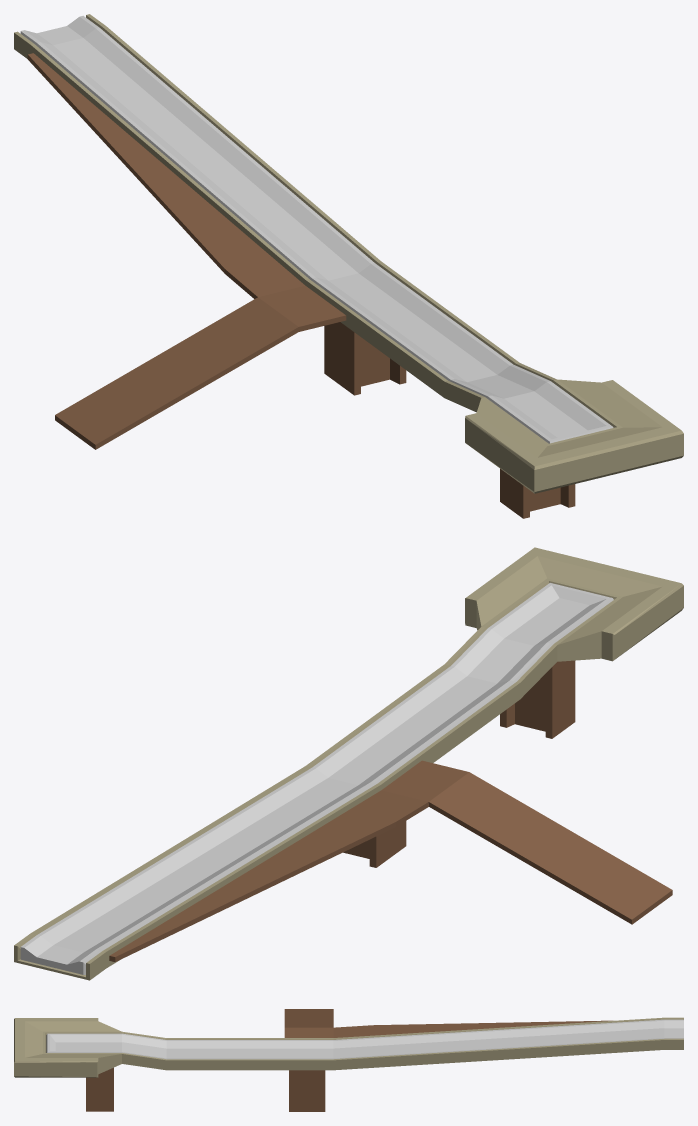
Rendered from GliderPlatform.dae.
The picture shows the model from 3 angles, top to bottom: view 1: azimuth 30°, elevation 25°; view 2: azimuth 150°, elevation 25°; view 3: azimuth 270°, elevation 25°; orthographic projection. The views are drawn at different scales.
Parts seen in each view (by area): view 1: GlidePlatformPart1, GlidePlatformPart2; view 2: GlidePlatformPart1, GlidePlatformPart2; view 3: GlidePlatformPart1, GlidePlatformPart2.
Part boxes in pixels (box(x1,y1,x2,y2)): GlidePlatformPart1: box(14, 14, 683, 518); GlidePlatformPart2: box(20, 15, 613, 443); GlidePlatformPart1: box(14, 547, 683, 980); GlidePlatformPart2: box(20, 583, 613, 974); GlidePlatformPart1: box(14, 1009, 683, 1111); GlidePlatformPart2: box(46, 1019, 683, 1059).
Bounding box in the file's own units: 9.58 × 25.45 × 3.16.
